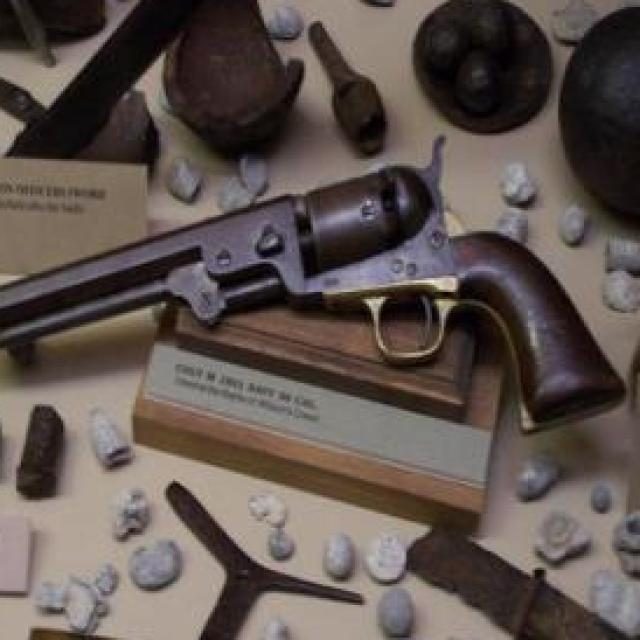pistol: (0, 133, 621, 425)
